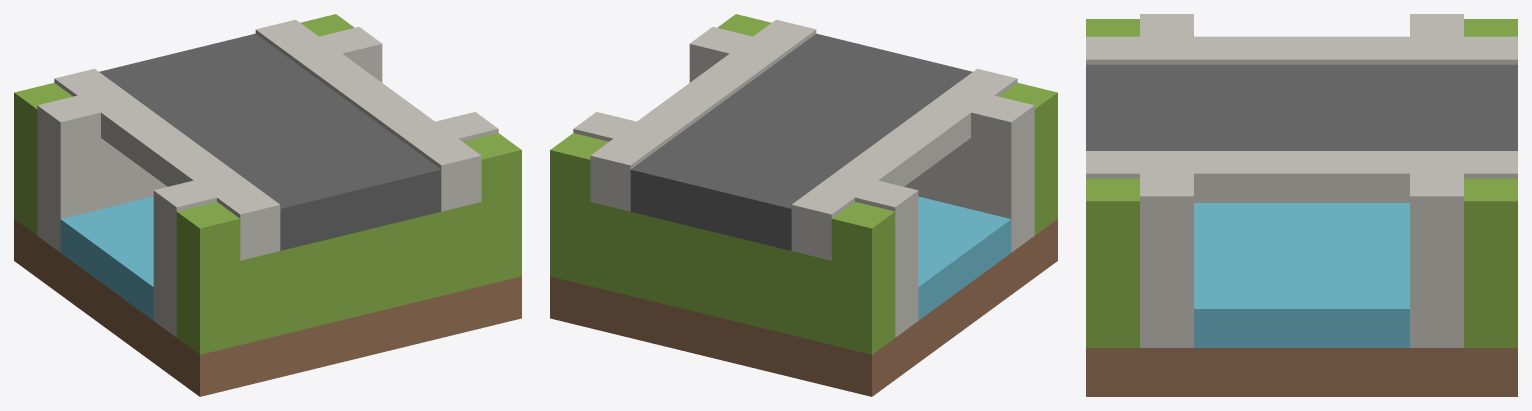
File: road-bridge-canal.obj
The picture shows the model from 3 angles, left to right: view 1: azimuth 30°, elevation 25°; view 2: azimuth 150°, elevation 25°; view 3: azimuth 270°, elevation 25°; orthographic projection. The views are drawn at different scales.
Parts seen in each view (by area): view 1: road-bridge-canal_Cube.210; view 2: road-bridge-canal_Cube.210; view 3: road-bridge-canal_Cube.210.
Boxes of the visible parts, x1,y1,x2,y2 form: road-bridge-canal_Cube.210: (14, 14, 521, 396); road-bridge-canal_Cube.210: (550, 14, 1057, 396); road-bridge-canal_Cube.210: (1086, 14, 1517, 396).
Bounding box in the file's own units: 8 × 4.1 × 8.
